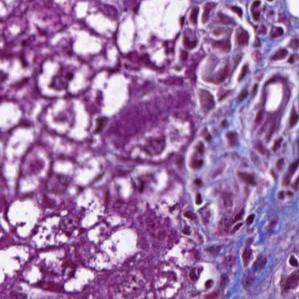inflammation: (173, 202, 203, 240)
